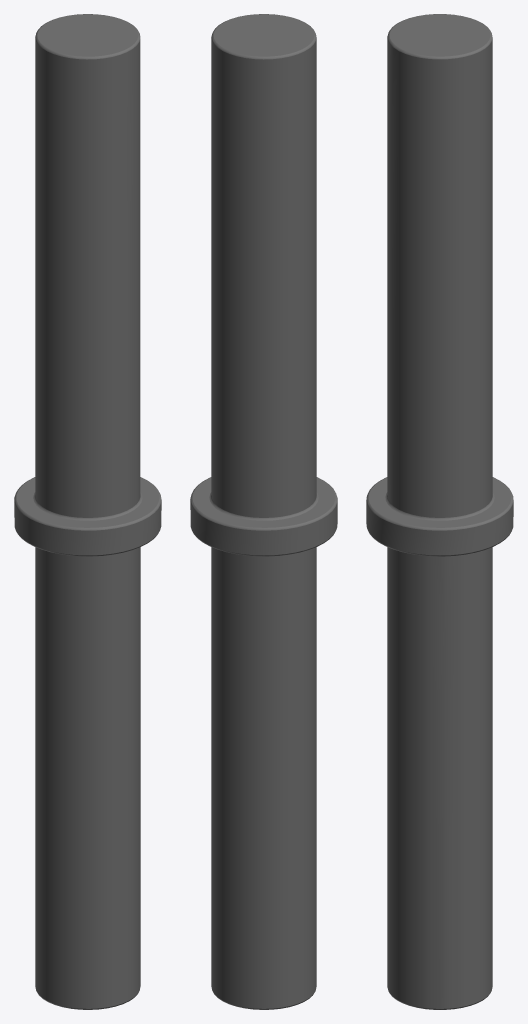
Rendered from flansli_pim.glb.
3 views of the same model, side by side, from view 1: azimuth 30°, elevation 25°; view 2: azimuth 150°, elevation 25°; view 3: azimuth 270°, elevation 25° (orthographic).
Parts seen in each view (by area): view 1: FlanÅlÄ± Pim.001; view 2: FlanÅlÄ± Pim.001; view 3: FlanÅlÄ± Pim.001.
Part boxes in pixels (x1,y1,x2,y2): FlanÅlÄ± Pim.001: (14,14,161,1009); FlanÅlÄ± Pim.001: (190,14,337,1009); FlanÅlÄ± Pim.001: (366,14,513,1009).
Size of the model in its own units: 0.007 by 0.05 by 0.007.
Materials: 1 (1 with a texture image).
